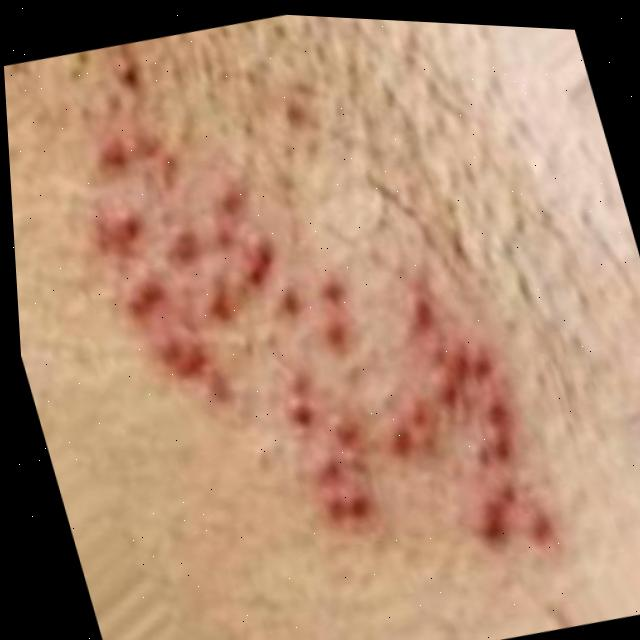Shingles: (59, 67, 557, 619)
